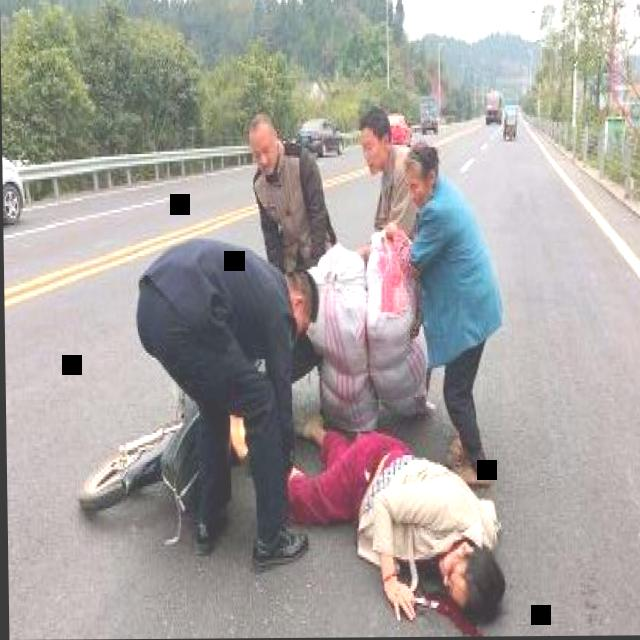Fall-Detected: (274, 393, 517, 636)
